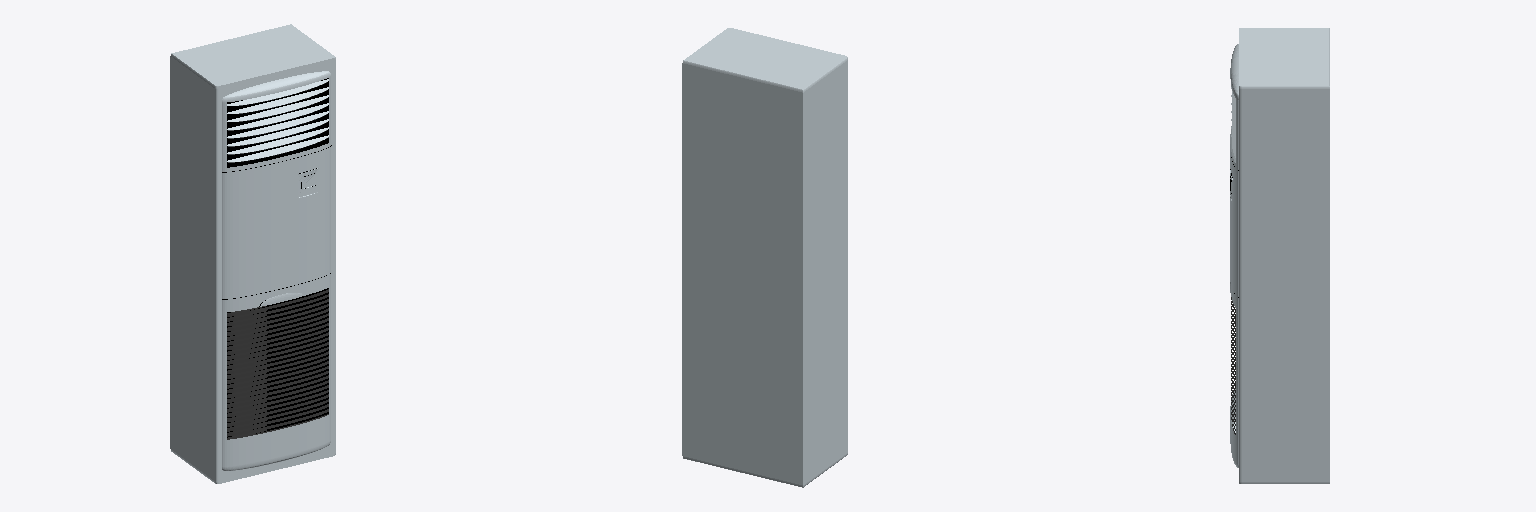
3 views of the same model, side by side, from view 1: azimuth 30°, elevation 25°; view 2: azimuth 150°, elevation 25°; view 3: azimuth 270°, elevation 25° (orthographic).
Parts seen in each view (by area): view 1: Object46; view 2: Object46; view 3: Object46.
Part boxes in pixels (left/top/right/bottom): Object46: left=170, top=24, right=335, bottom=483; Object46: left=682, top=28, right=847, bottom=487; Object46: left=1230, top=28, right=1329, bottom=483.
Size of the model in its own units: 3.05 by 9.6 by 2.19.